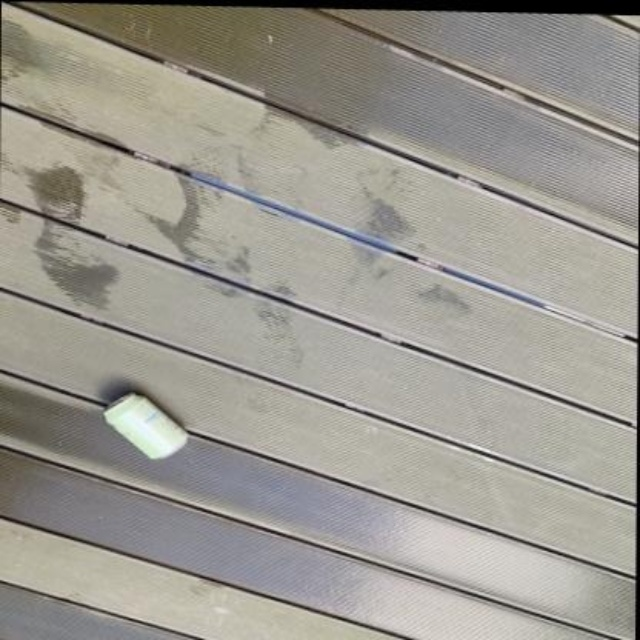trash: (103, 392, 186, 458)
